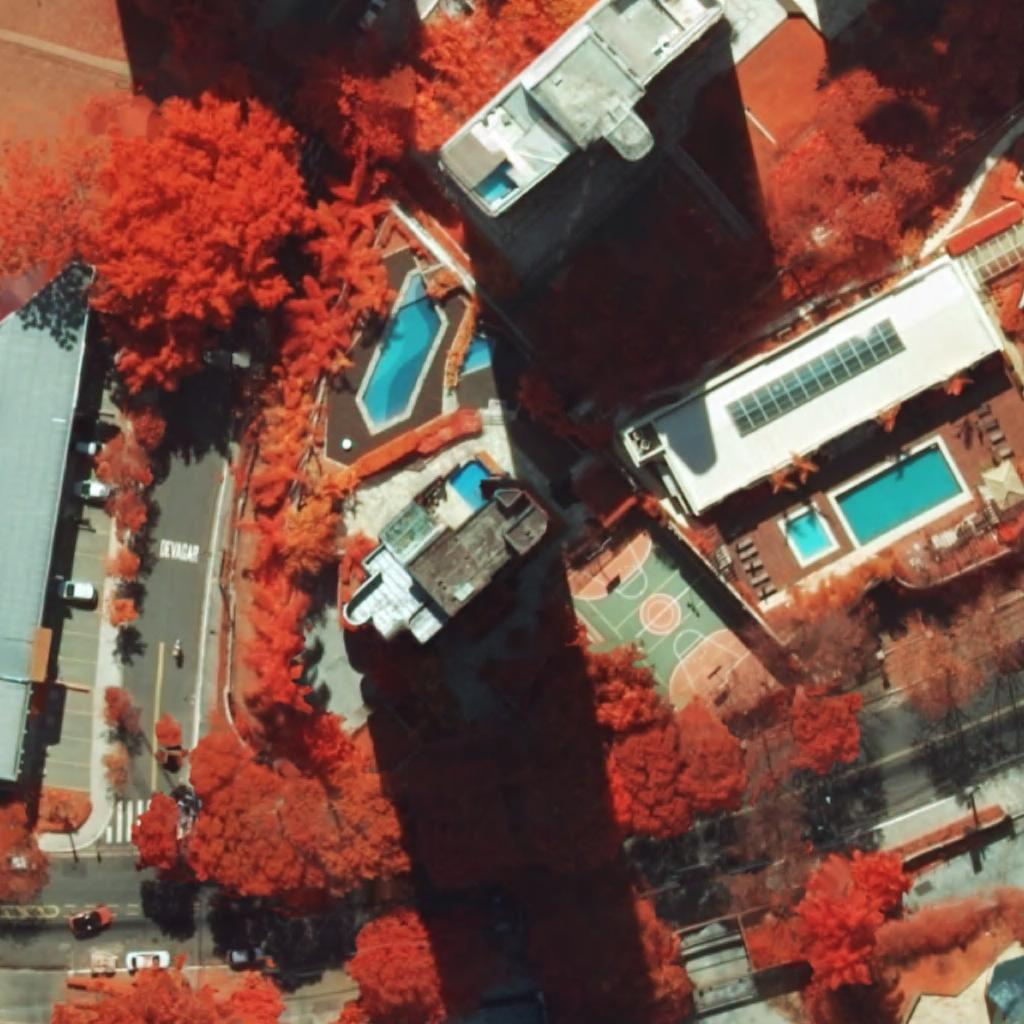pool: (834, 441, 964, 547), (362, 295, 442, 425), (785, 509, 833, 561), (449, 460, 491, 512), (473, 159, 518, 203), (461, 335, 494, 374)
